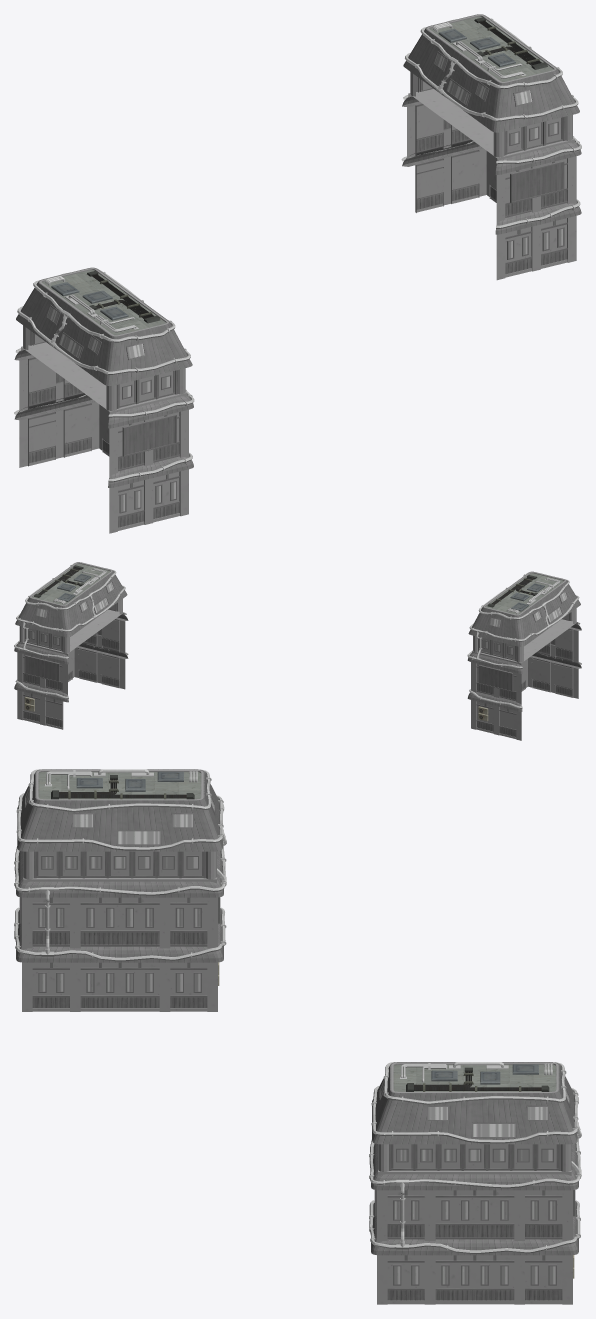
File: MERGED_SM_ENV_KNVLLG_CommonBuilding_C_1.mo.fbx
3 renders of one model, top to bottom at view 1: azimuth 30°, elevation 25°; view 2: azimuth 150°, elevation 25°; view 3: azimuth 270°, elevation 25°, orthographic. The views are drawn at different scales.
Parts seen in each view (by area): view 1: MERGED_SM_ENV_KNVLLG_CommonBuilding_C_1.mo; view 2: MERGED_SM_ENV_KNVLLG_CommonBuilding_C_1.mo; view 3: MERGED_SM_ENV_KNVLLG_CommonBuilding_C_1.mo.
Boxes of the visible parts, box(x1,y1,x2,y2) form: MERGED_SM_ENV_KNVLLG_CommonBuilding_C_1.mo: box(14, 14, 581, 533); MERGED_SM_ENV_KNVLLG_CommonBuilding_C_1.mo: box(14, 562, 581, 740); MERGED_SM_ENV_KNVLLG_CommonBuilding_C_1.mo: box(14, 769, 581, 1304).
Size of the model in its own units: 67.96 by 19.4 by 47.52.
